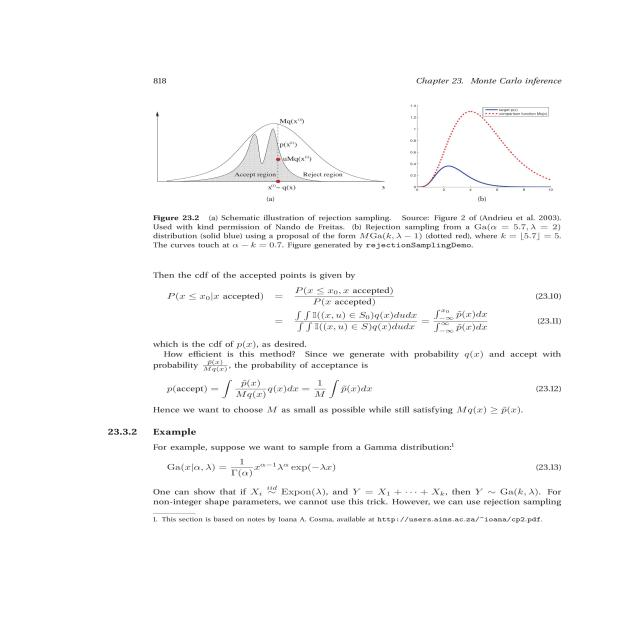diagram: (120, 83, 600, 263)
